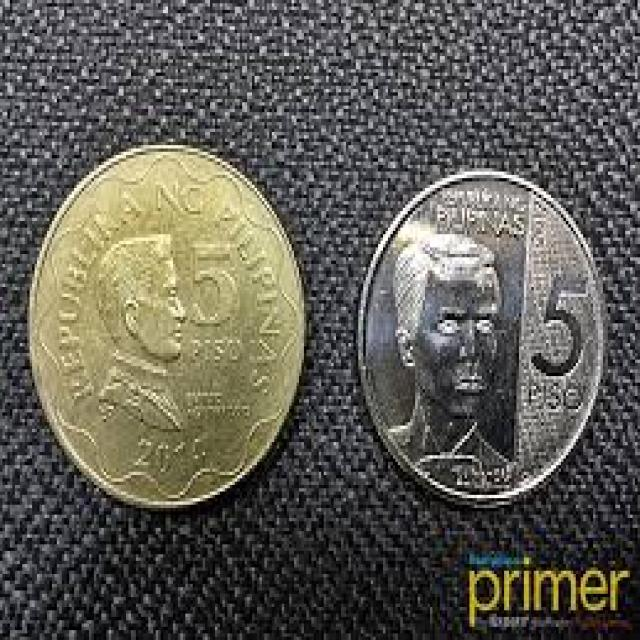5 peso: (345, 156, 614, 516)
5 peso-old: (20, 132, 309, 518)
